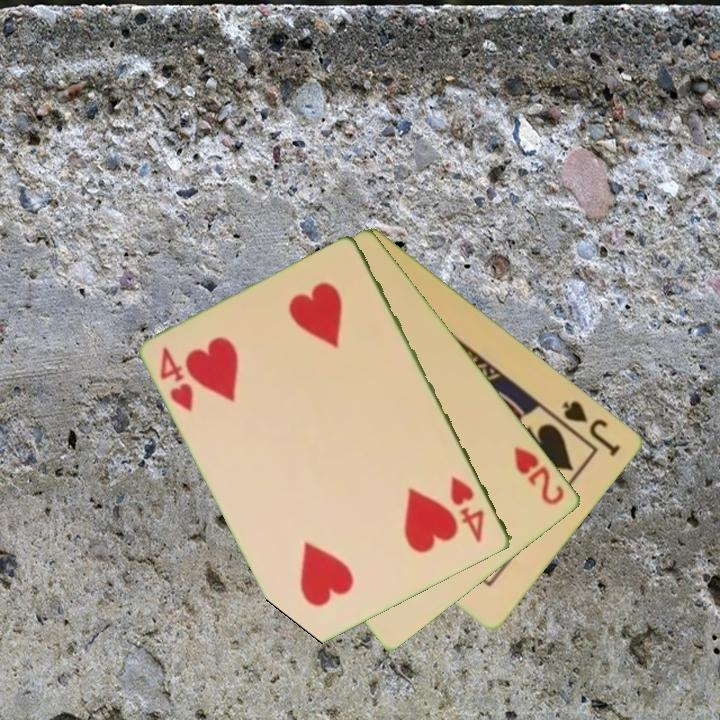2h: (511, 443, 568, 509)
4h: (447, 472, 488, 546), (157, 344, 197, 415)
Js: (560, 397, 624, 460)
